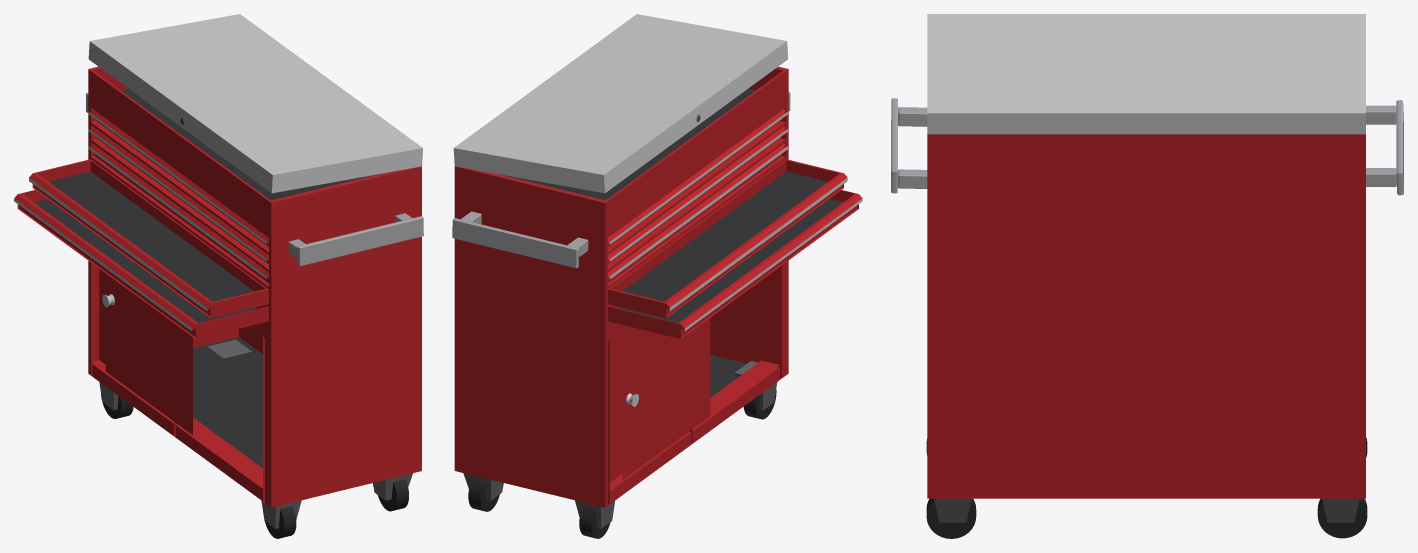
File: Gabinete.obj
The picture shows the model from 3 angles, left to right: view 1: azimuth 30°, elevation 25°; view 2: azimuth 150°, elevation 25°; view 3: azimuth 270°, elevation 25°; orthographic projection. The views are drawn at different scales.
Visible parts, largest first — view 1: Gabinete; view 2: Gabinete; view 3: Gabinete.
Boxes of the visible parts, x1,y1,x2,y2 form: Gabinete: (14, 14, 423, 538); Gabinete: (452, 14, 862, 538); Gabinete: (891, 14, 1403, 538).
Size of the model in its own units: 0.6067 by 0.9449 by 0.9853.
7 materials, 7 textured.
